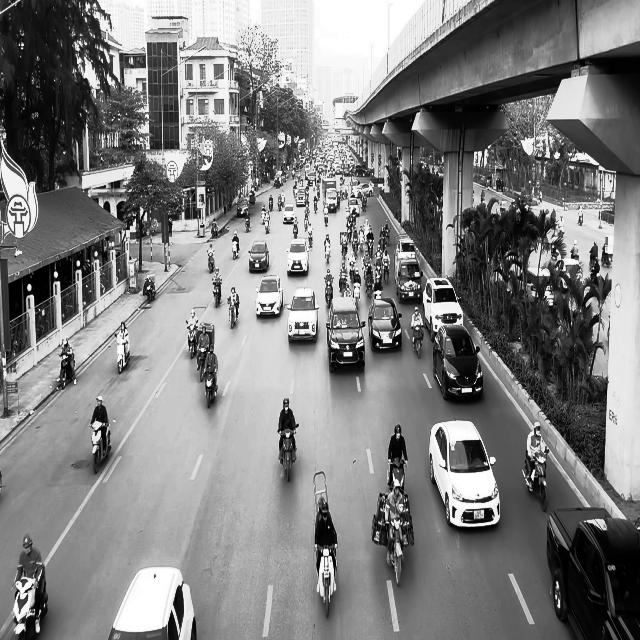car: (546, 506, 640, 639), (428, 419, 501, 529), (108, 566, 196, 639), (432, 324, 483, 401), (326, 295, 365, 373), (422, 277, 463, 341), (368, 296, 402, 351), (286, 287, 319, 343), (396, 257, 423, 302), (255, 275, 283, 318), (286, 238, 309, 276), (248, 239, 269, 272), (236, 197, 250, 217), (282, 204, 295, 224)
motorbike: (13, 565, 48, 639), (314, 544, 338, 618), (522, 448, 549, 512), (89, 419, 113, 473), (385, 519, 404, 586), (278, 424, 298, 482), (58, 352, 77, 389), (115, 333, 130, 373), (204, 366, 218, 408), (185, 321, 198, 359), (196, 346, 209, 382), (412, 327, 424, 358), (227, 297, 238, 329), (144, 276, 155, 302), (212, 280, 221, 308), (207, 251, 215, 273), (232, 238, 239, 260), (211, 222, 218, 238)
